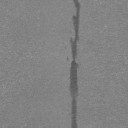red iron: (70, 0, 80, 128)
